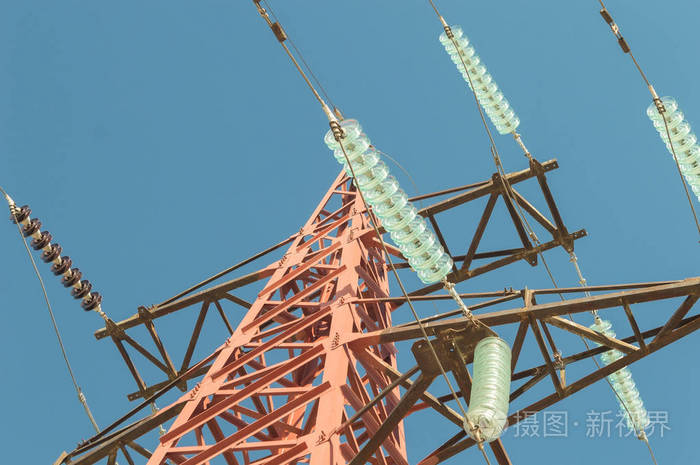insulator: (326, 119, 452, 287), (7, 205, 101, 310), (440, 23, 521, 133), (592, 316, 649, 431), (646, 98, 700, 200), (463, 336, 513, 443)
